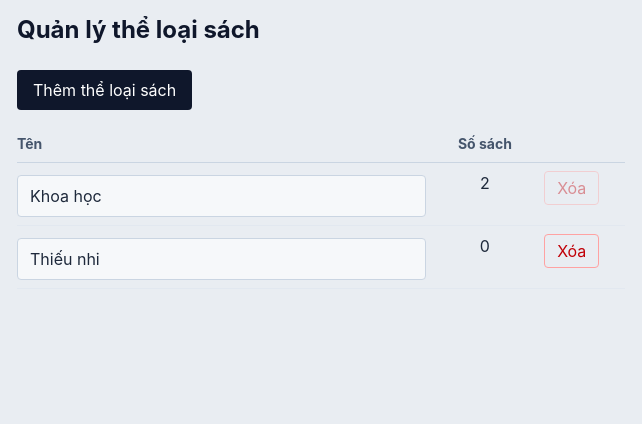
Test case: Categories › add › adds a row on success
The width and height of the screenshot is (642, 424).
Expected: the field named "Tên thể loại Khoa học" is shown, x1=17 y1=175 x2=426 y2=217
Click the button "Thêm thể loại sách" at (105, 90), box x1=17 y1=70 x2=192 y2=110
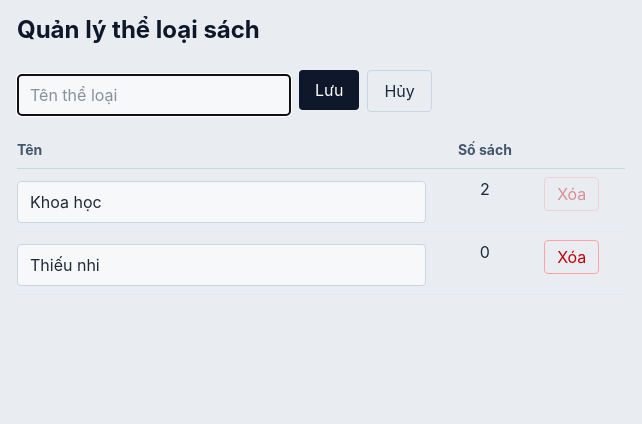
Type "Lịch sử" into the field named "Tên thể loại mới" at (154, 95), box x1=17 y1=74 x2=291 y2=116
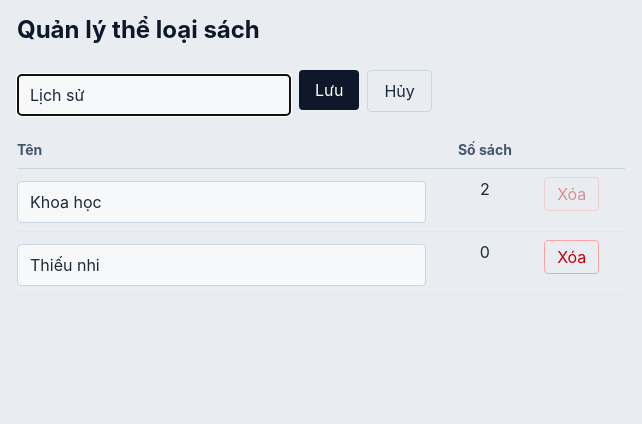
Click the button "Lưu" at (329, 90), box x1=299 y1=70 x2=359 y2=110
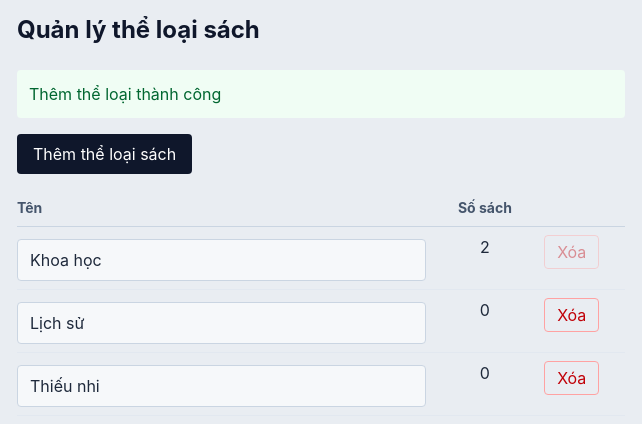
Expected: the field named "Tên thể loại Lịch sử" is shown, x1=17 y1=302 x2=426 y2=344
